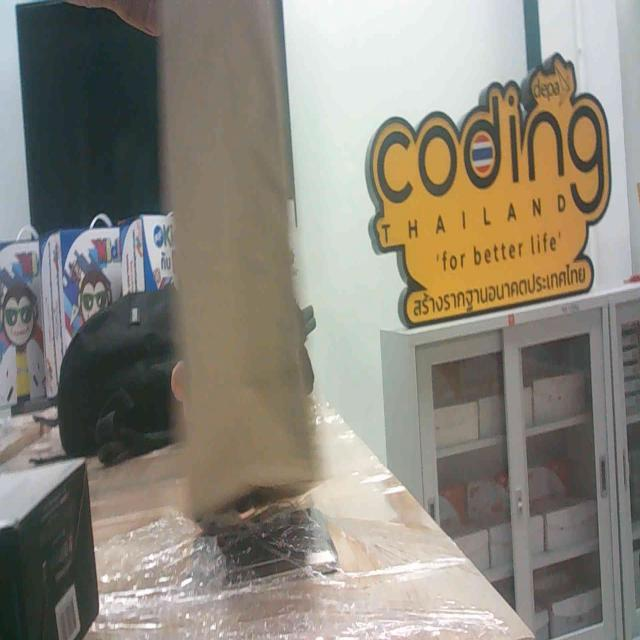bag: (132, 15, 310, 512)
